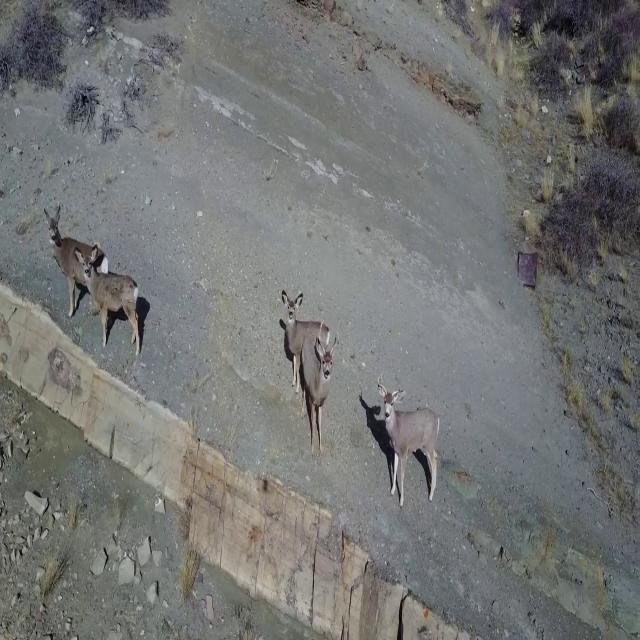Deer: (376, 371, 441, 509), (44, 204, 112, 316), (80, 248, 142, 360), (278, 284, 332, 408), (302, 333, 339, 452)
